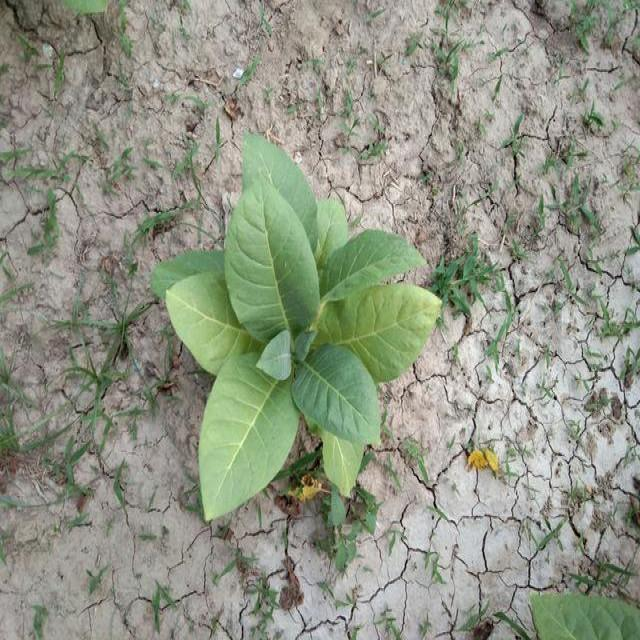crop: (150, 130, 443, 518), (524, 583, 640, 640)
